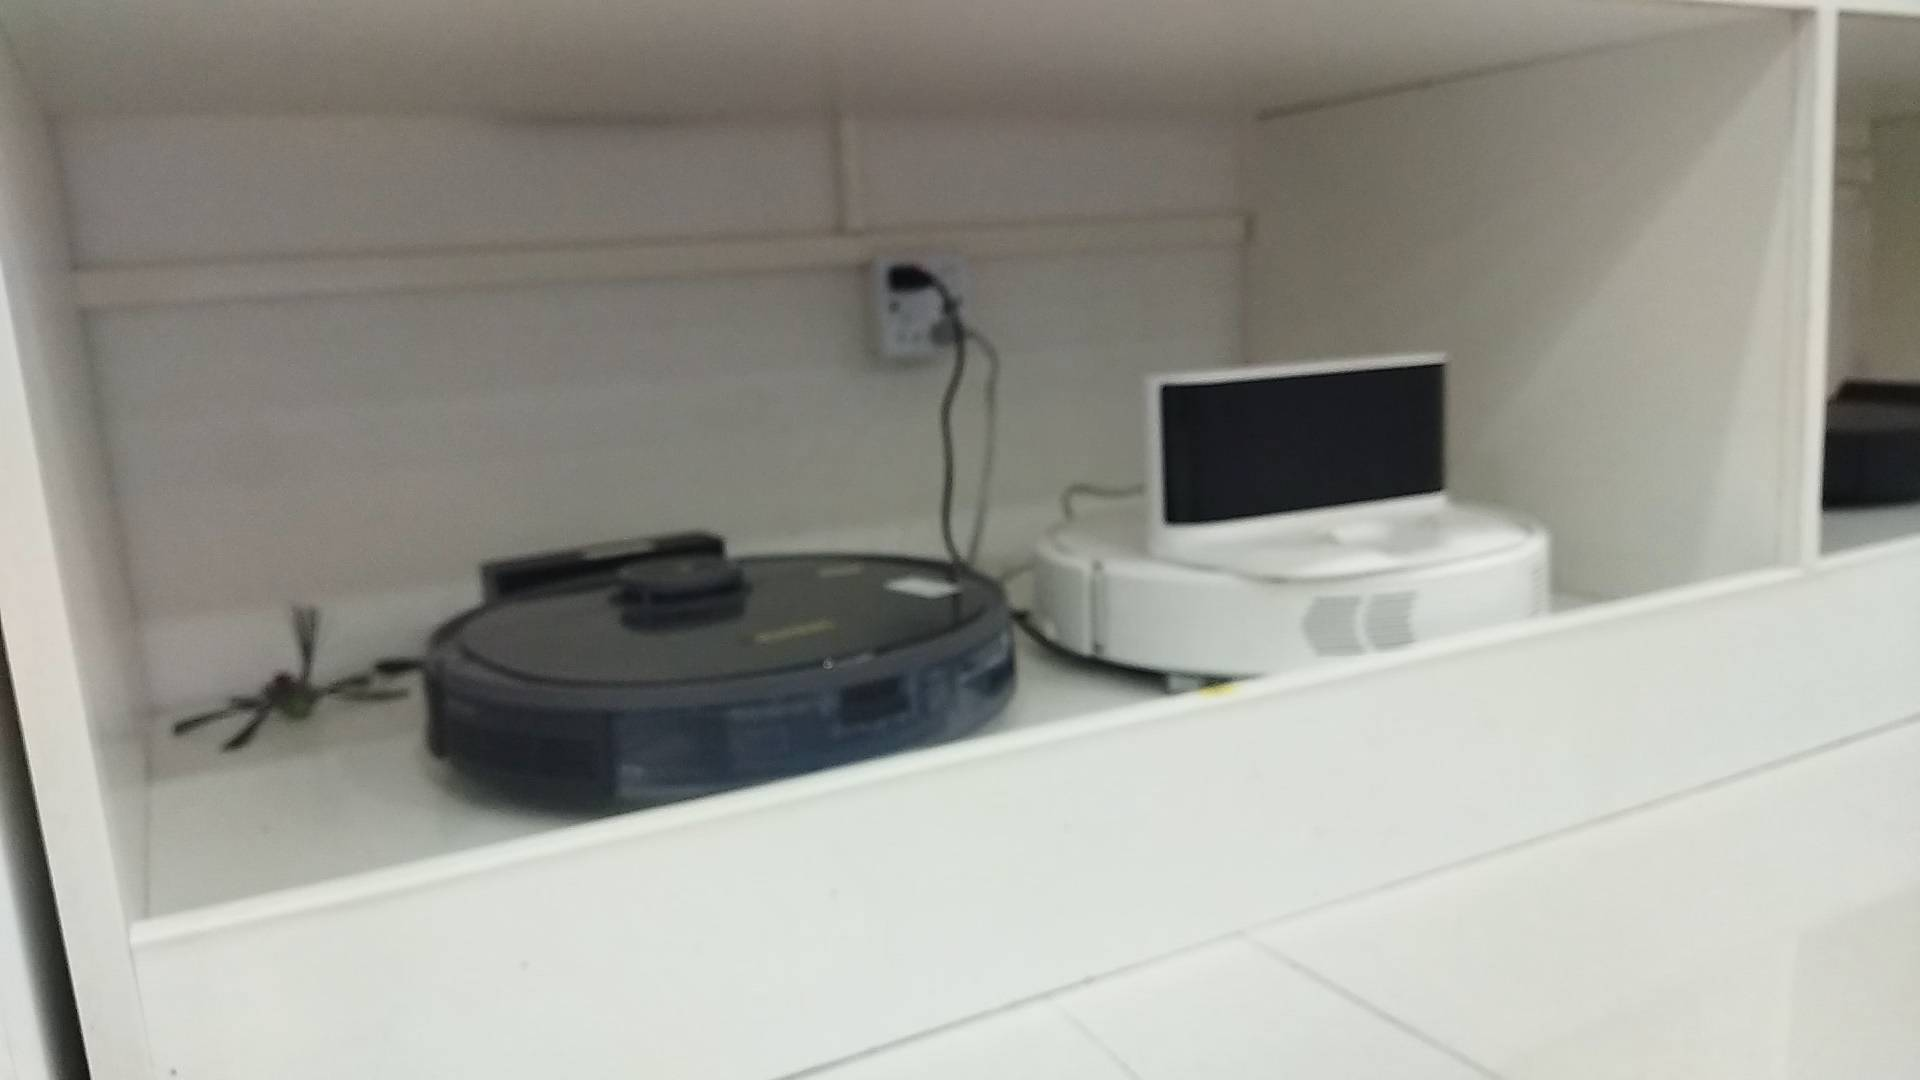recharge seat: (1145, 349, 1530, 583)
